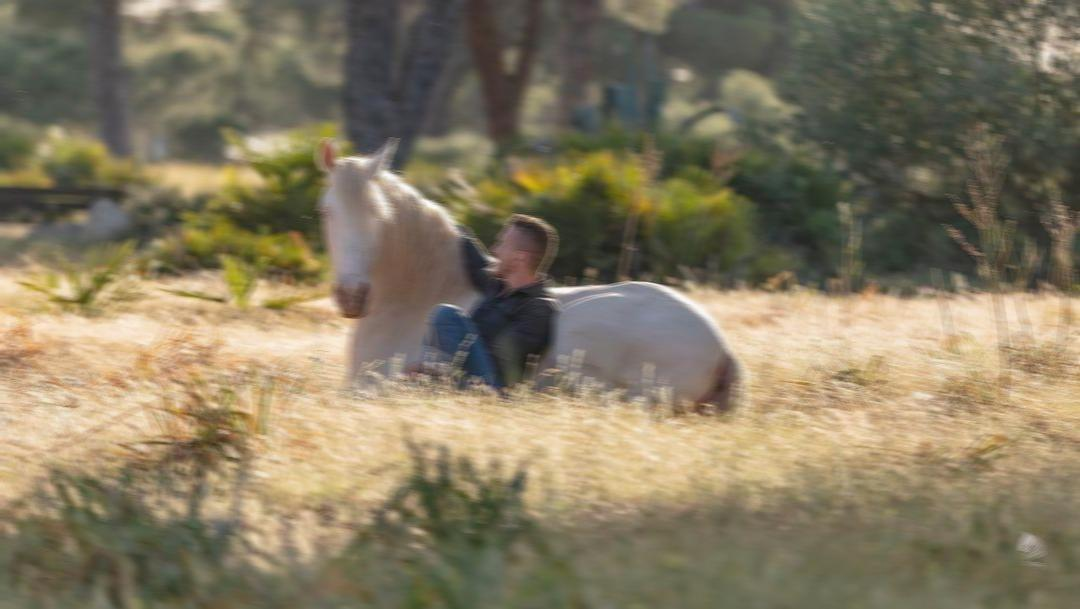horse: (313, 135, 748, 421)
